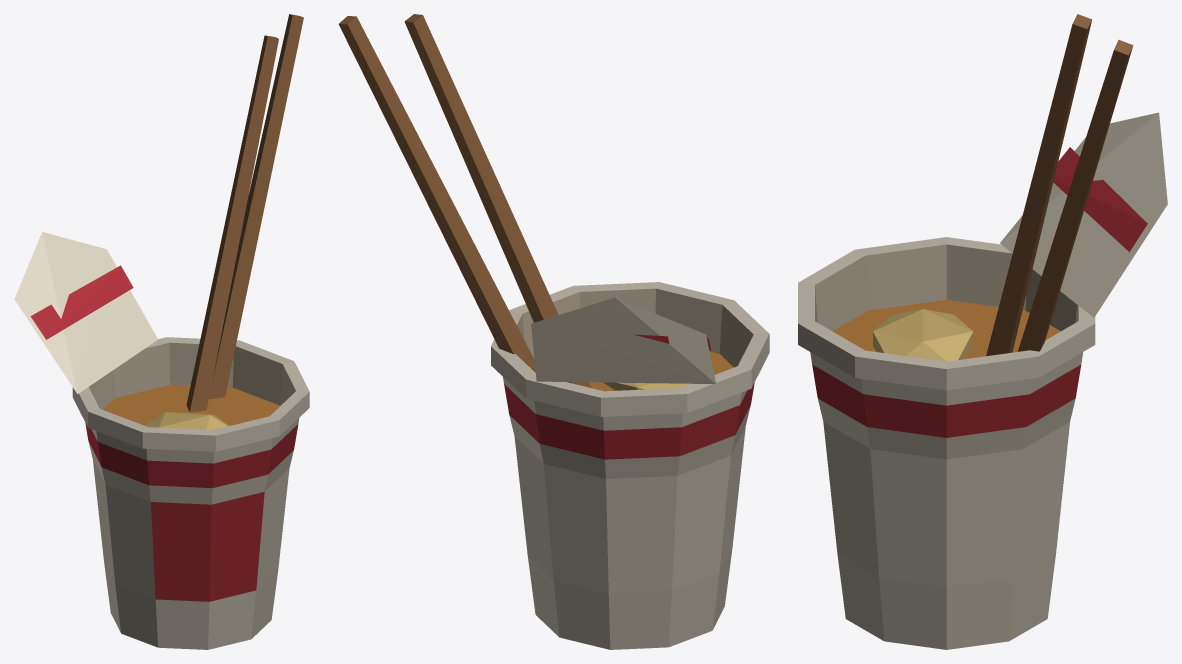
Rendered from tl_prop_noodle_cup_v01.glb.
The picture shows the model from 3 angles, left to right: view 1: azimuth 30°, elevation 25°; view 2: azimuth 150°, elevation 25°; view 3: azimuth 270°, elevation 25°; orthographic projection. The views are drawn at different scales.
Parts seen in each view (by area): view 1: tl_prop_noodle_cup_v01; view 2: tl_prop_noodle_cup_v01; view 3: tl_prop_noodle_cup_v01.
Boxes of the visible parts, x1,y1,x2,y2 form: tl_prop_noodle_cup_v01: (14,14,309,649); tl_prop_noodle_cup_v01: (338,14,769,649); tl_prop_noodle_cup_v01: (798,14,1167,649).
Size of the model in its own units: 0.1538 by 0.2516 by 0.1254.
